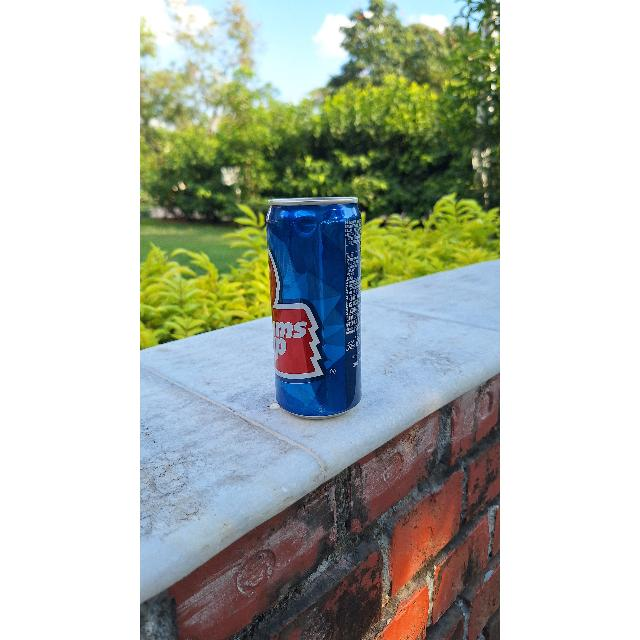Thums Up: (269, 194, 365, 420)
